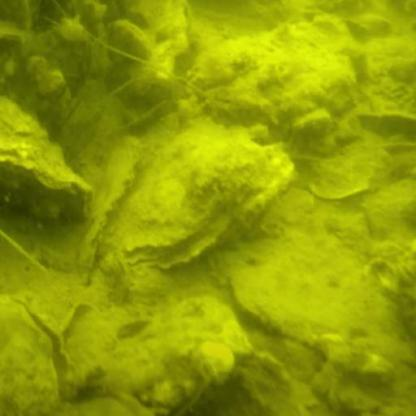3: (0, 297, 75, 416)
Oyster- Indeterminate: (99, 119, 290, 274)
Oyster-Closed: (221, 223, 389, 352), (98, 295, 253, 416), (0, 95, 99, 224), (106, 20, 150, 63)
